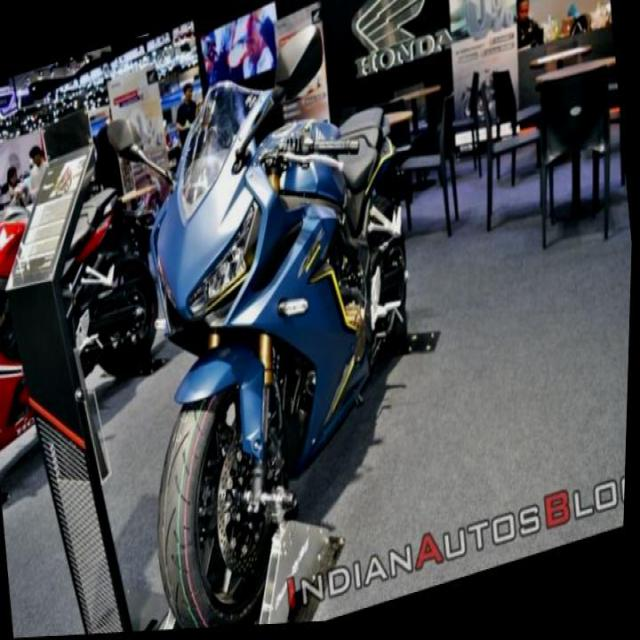CBR650R: (110, 27, 454, 633)
